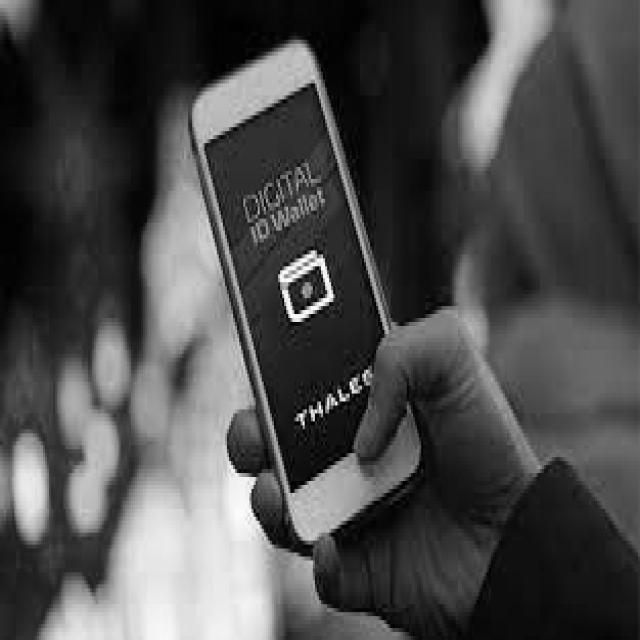No gun_phone: (189, 41, 424, 548)
